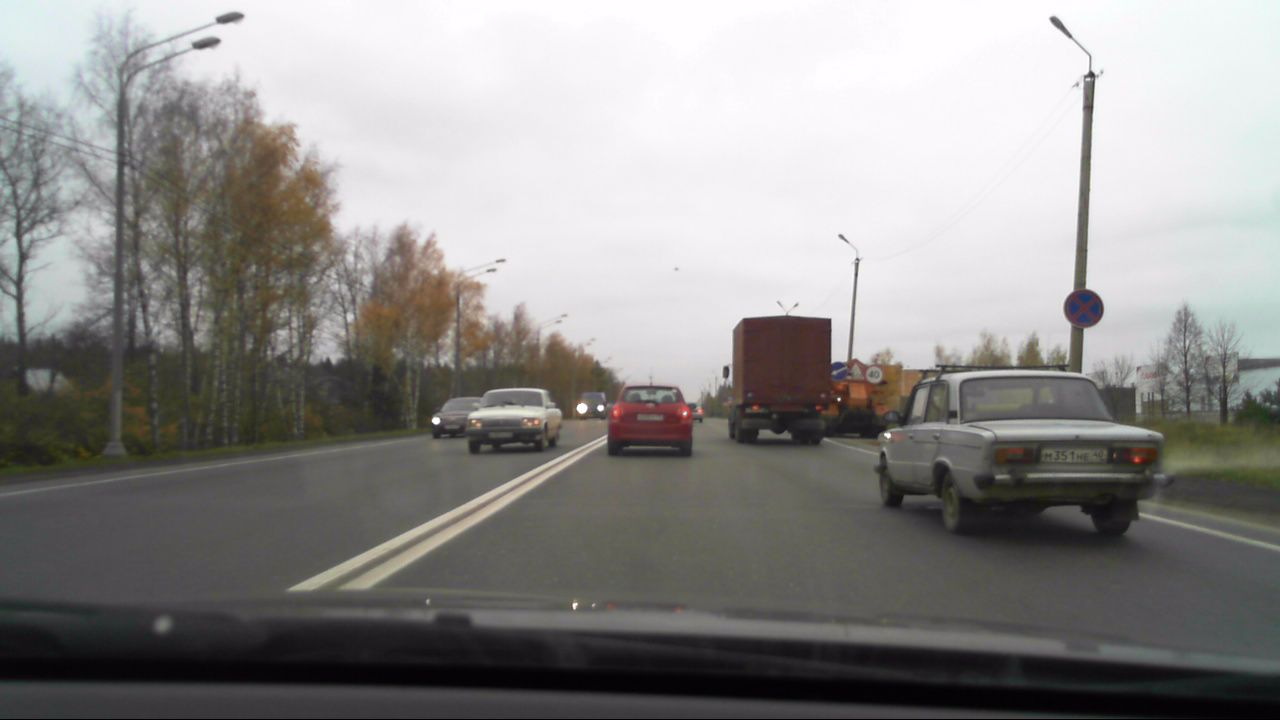No Parking: (1060, 286, 1108, 334)
speed_warning_40: (864, 364, 884, 384)
